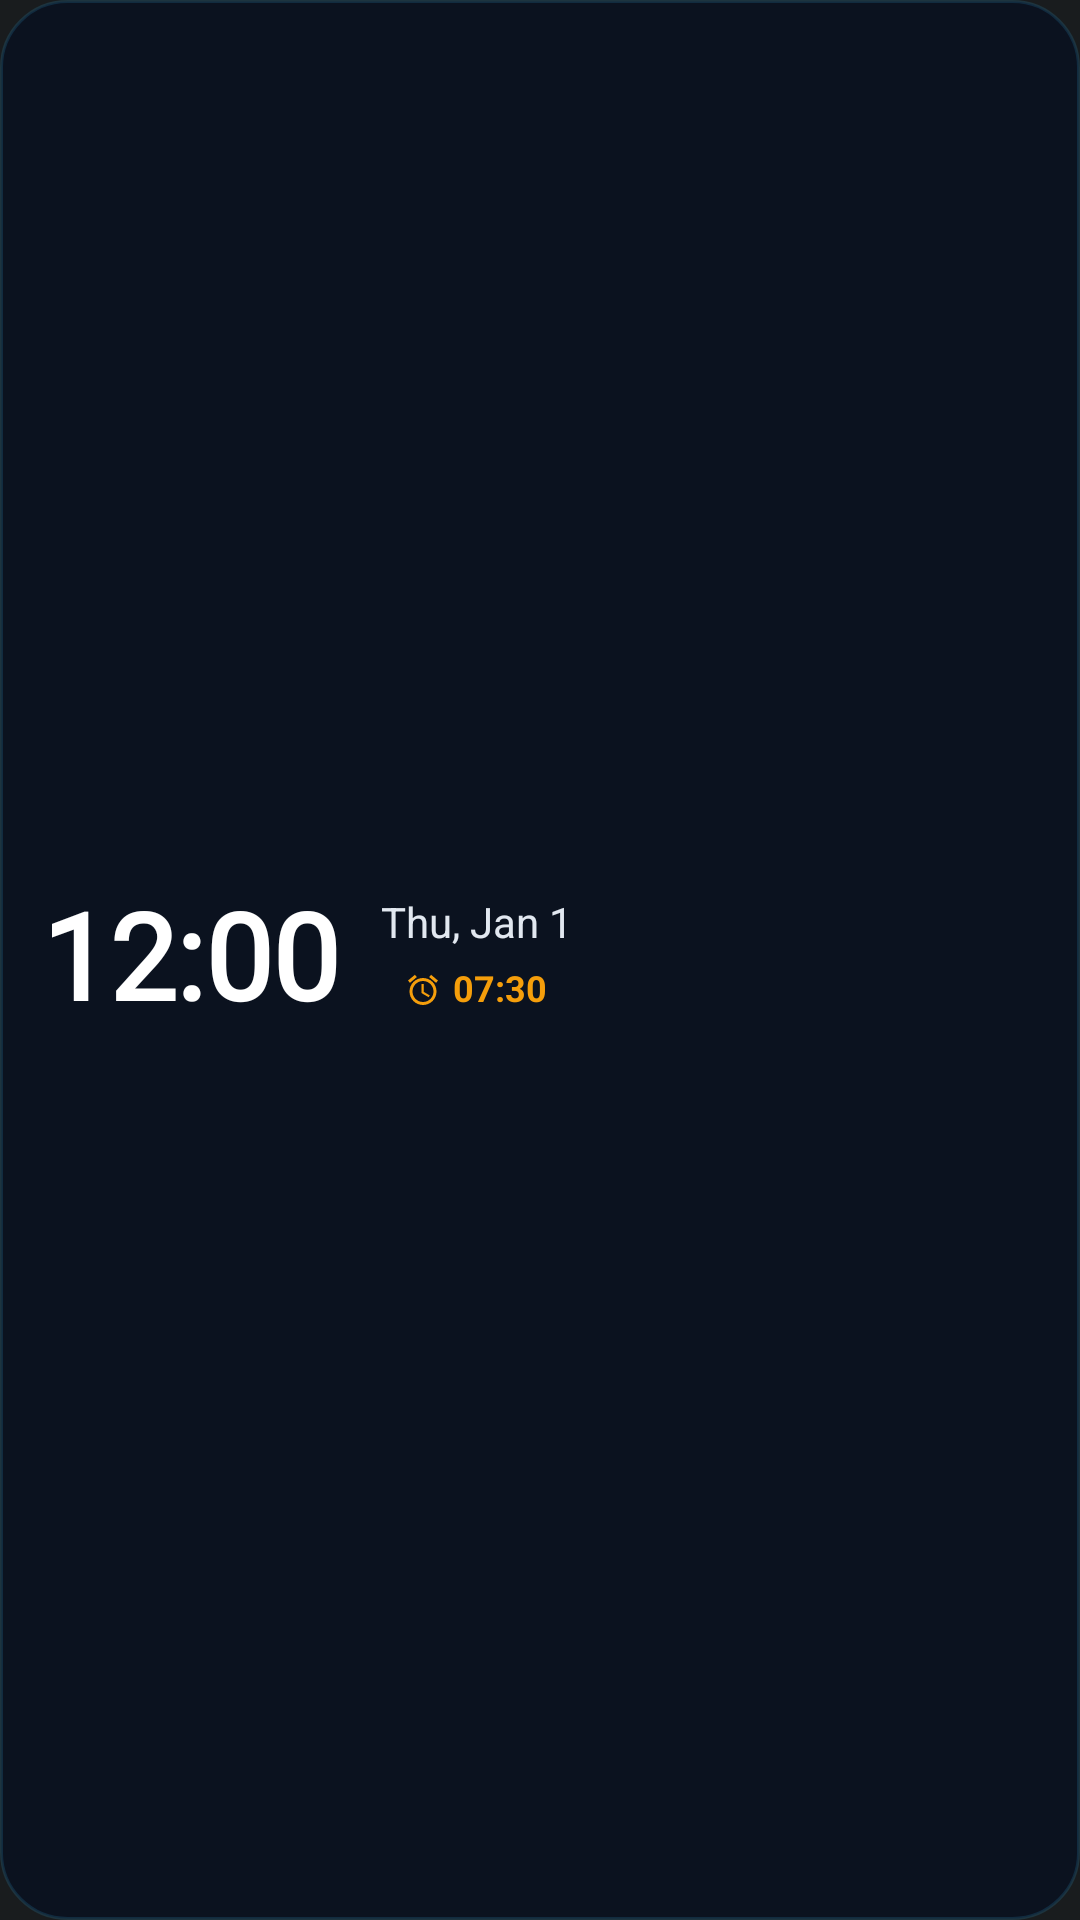

Locate icon controls on the screen. Image size 1080*1920, boxes as (left=x1, top=y1, right=x2, bottom=y2).
Next alarm: (left=408, top=975, right=438, bottom=1005)
